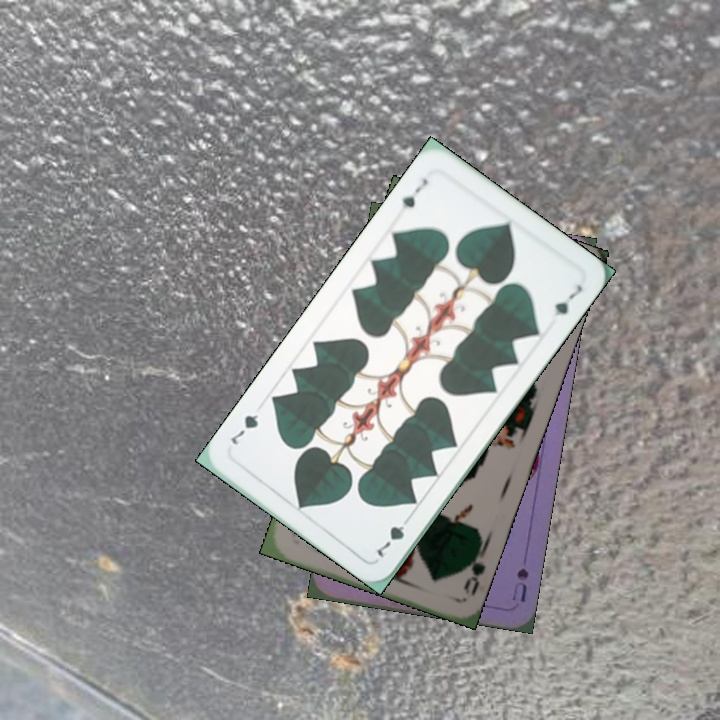G7: (372, 511, 413, 561), (398, 173, 431, 212)
GO: (457, 541, 490, 599)
SU: (508, 564, 532, 605)
